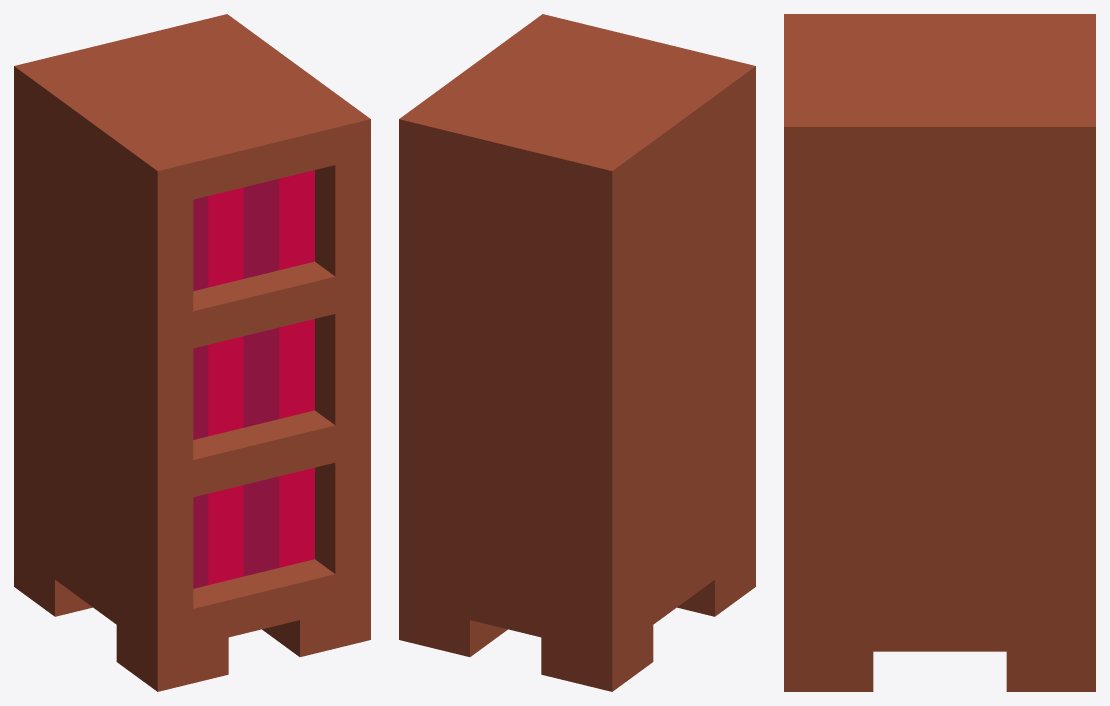
The model's file is small_bookcase_a_red.obj.
3 views of the same model, side by side, from view 1: azimuth 30°, elevation 25°; view 2: azimuth 150°, elevation 25°; view 3: azimuth 270°, elevation 25° (orthographic). The views are drawn at different scales.
Size of the model in its own units: 0.6 by 1.4 by 0.7.
1 material, 1 textured.
